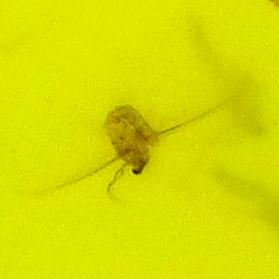Ephemeroptera: (100, 100, 179, 179)
